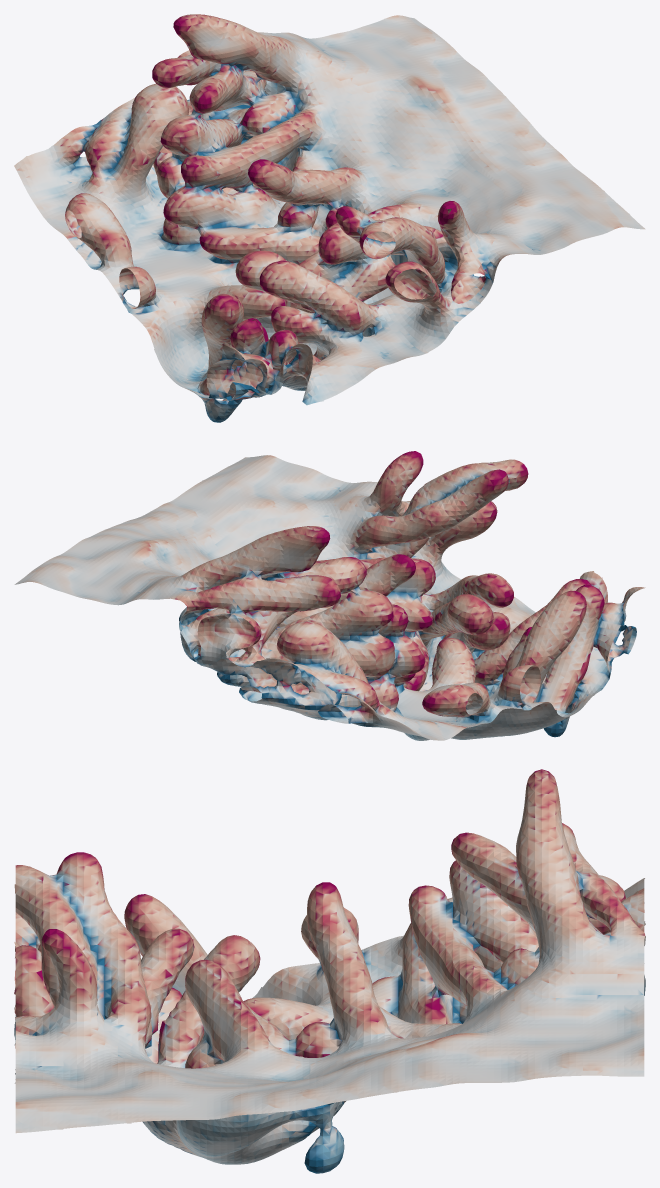
Rendered from crop1042_curvature.glb.
The picture shows the model from 3 angles, top to bottom: view 1: azimuth 30°, elevation 25°; view 2: azimuth 150°, elevation 25°; view 3: azimuth 270°, elevation 25°; orthographic projection. The views are drawn at different scales.
Parts seen in each view (by area): view 1: world; view 2: world; view 3: world.
Part boxes in pixels (left/top/right/bottom): world: left=14, top=14, right=645, bottom=422; world: left=14, top=451, right=645, bottom=740; world: left=14, top=769, right=645, bottom=1173.
Bounding box in the file's own units: 1479 × 990 × 1479.
